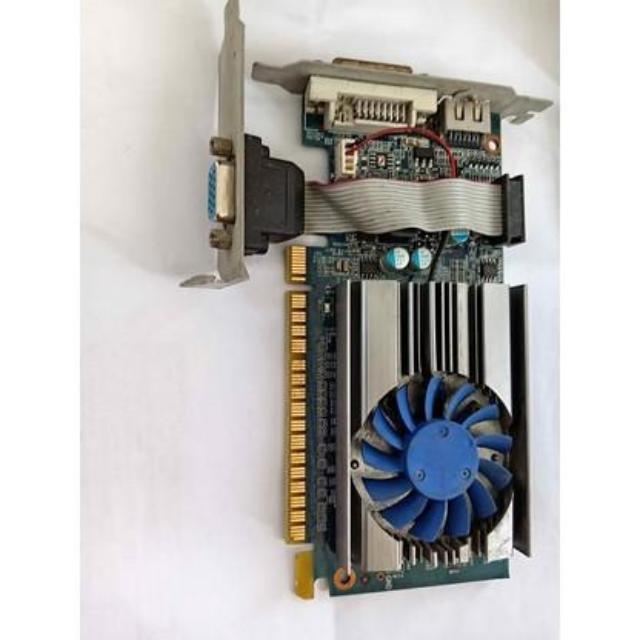GPU: (254, 15, 557, 620)
